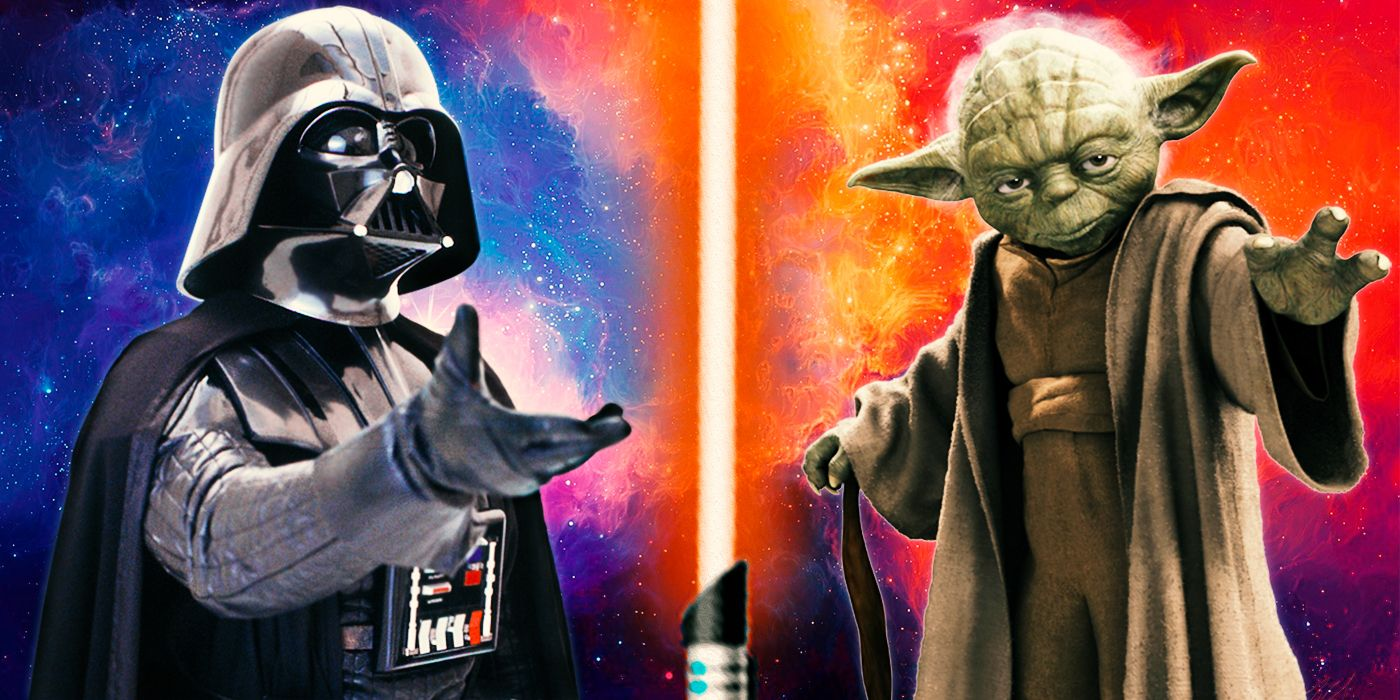lightsaber: (634, 0, 789, 700)
